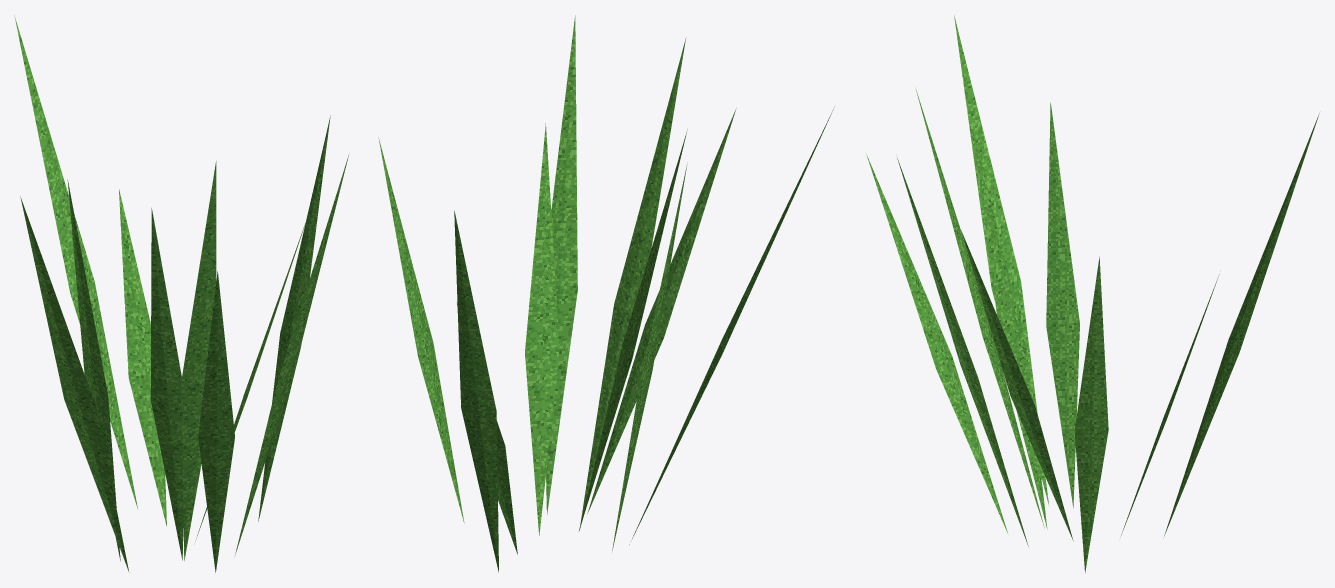
The model's file is grass_tall.glb.
3 renders of one model, left to right at view 1: azimuth 30°, elevation 25°; view 2: azimuth 150°, elevation 25°; view 3: azimuth 270°, elevation 25°, orthographic. The views are drawn at different scales.
Parts seen in each view (by area): view 1: Body.022; view 2: Body.022; view 3: Body.022.
Boxes of the visible parts, x1,y1,x2,y2 form: Body.022: (14,15,348,572); Body.022: (378,15,834,572); Body.022: (866,15,1319,573).
Size of the model in its own units: 0.8503 by 0.9691 by 0.9312.
Materials: 1 (1 with a texture image).
